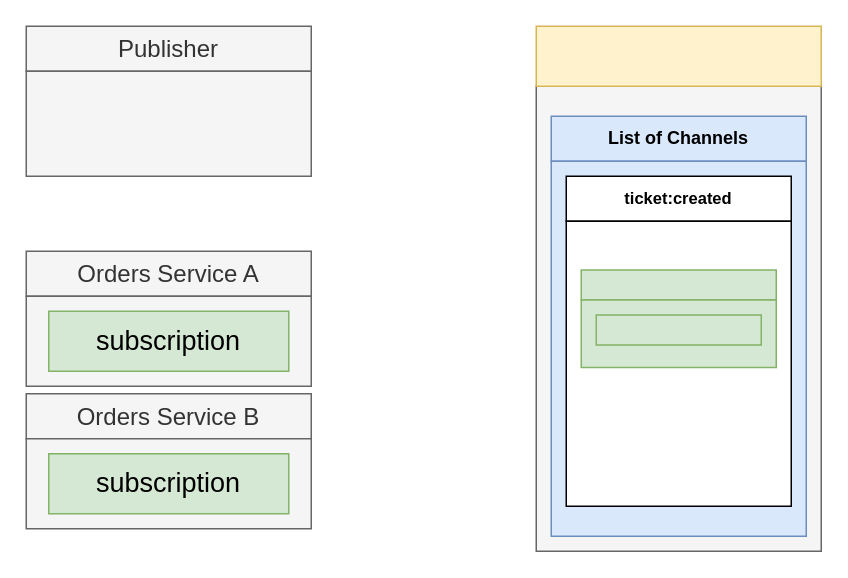
This 848x578 diagram has some shape labels left out. Each missing label, with the centre of its shape:
"'orders-service'" goes at pixel 678 329.
"NATS Streaming" goes at pixel 678 55.
"Queue Groups" goes at pixel 678 284.
